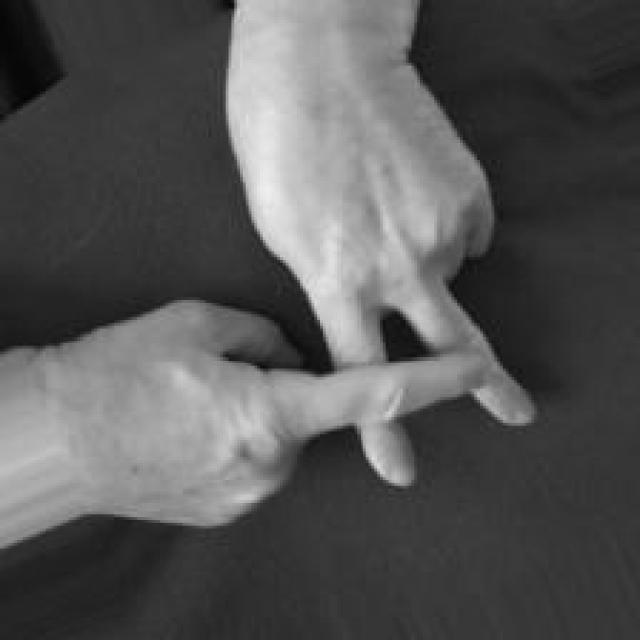A: (79, 71, 536, 527)
